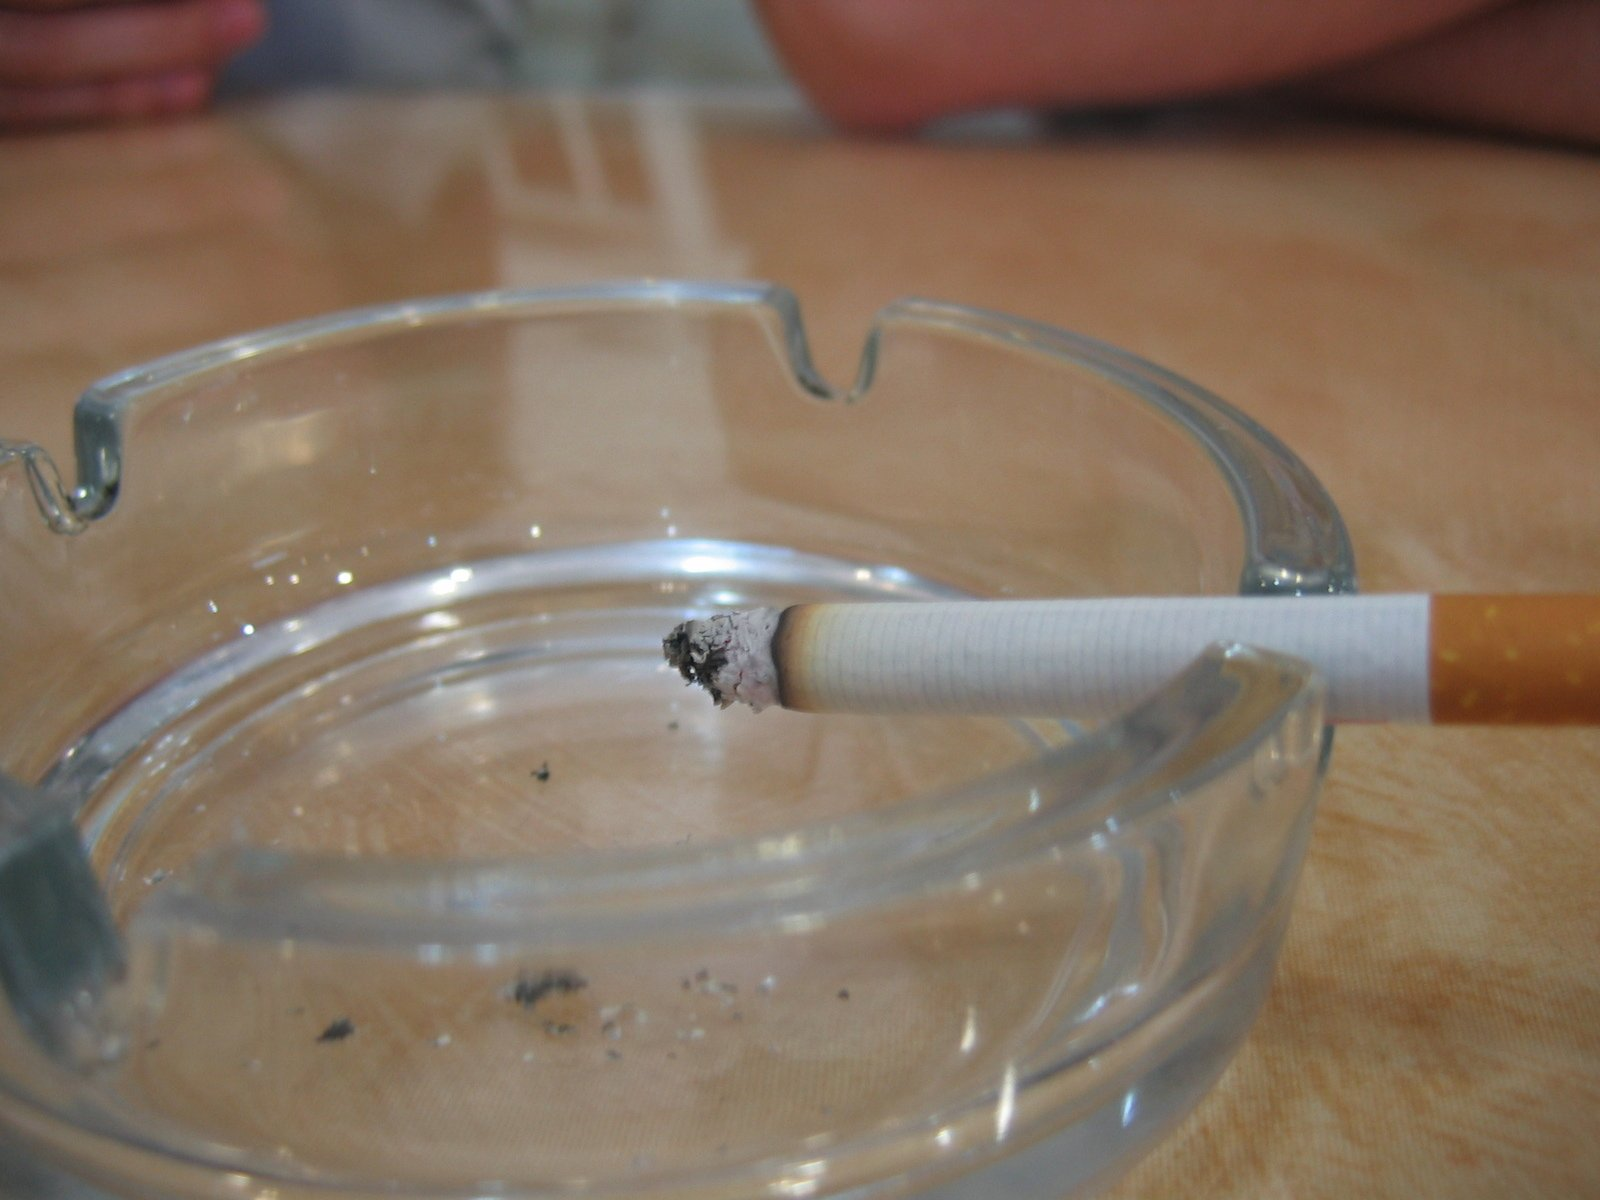cigarette: (648, 581, 1600, 722)
